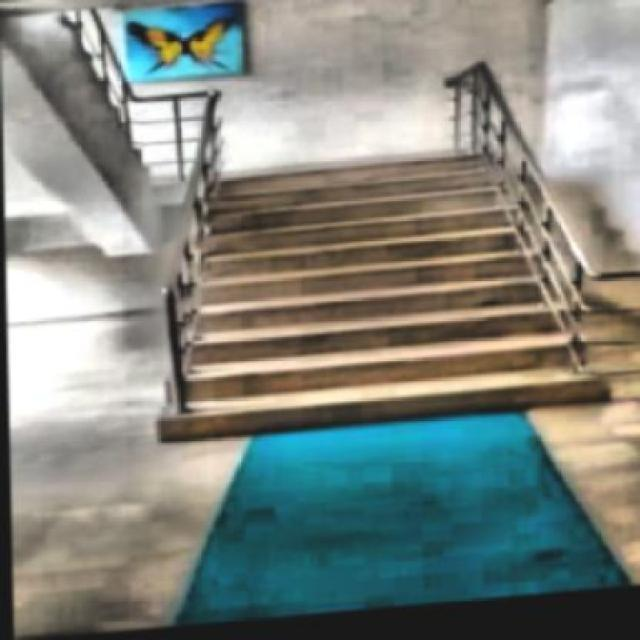stair: (175, 152, 608, 448)
